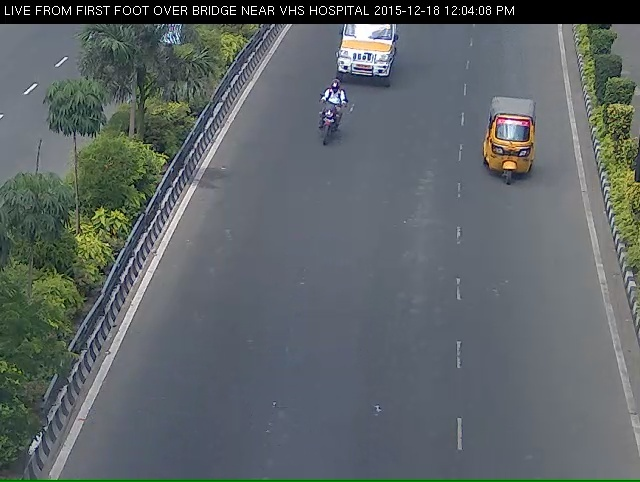Auto: (474, 99, 543, 210)
Car: (326, 24, 395, 93)
Person: (308, 90, 342, 168)
